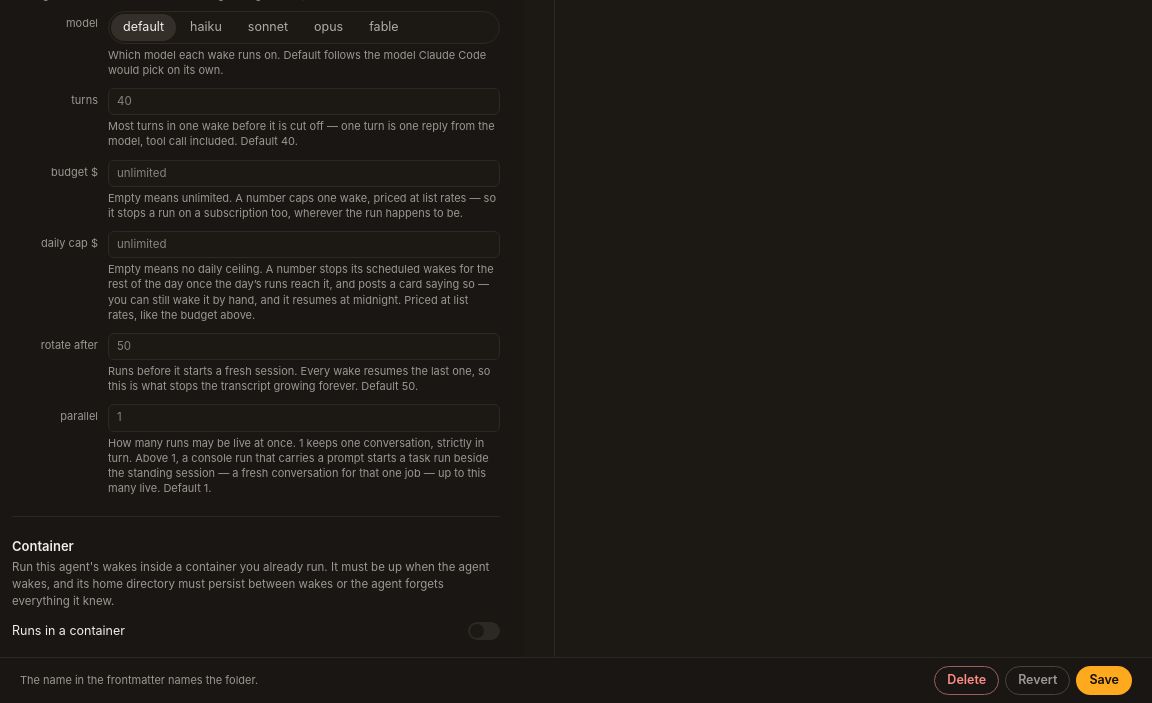
Test case: AgentDefinition › deleting › keeps the page open and says why when main refuses
This screenshot has width=1152, height=703.
(page scrolled)
What coordinates should you click on to do the following:
click the button "Delete"
I would click on:
 (967, 680)
Its box is [934,666,999,695].
(page scrolled)
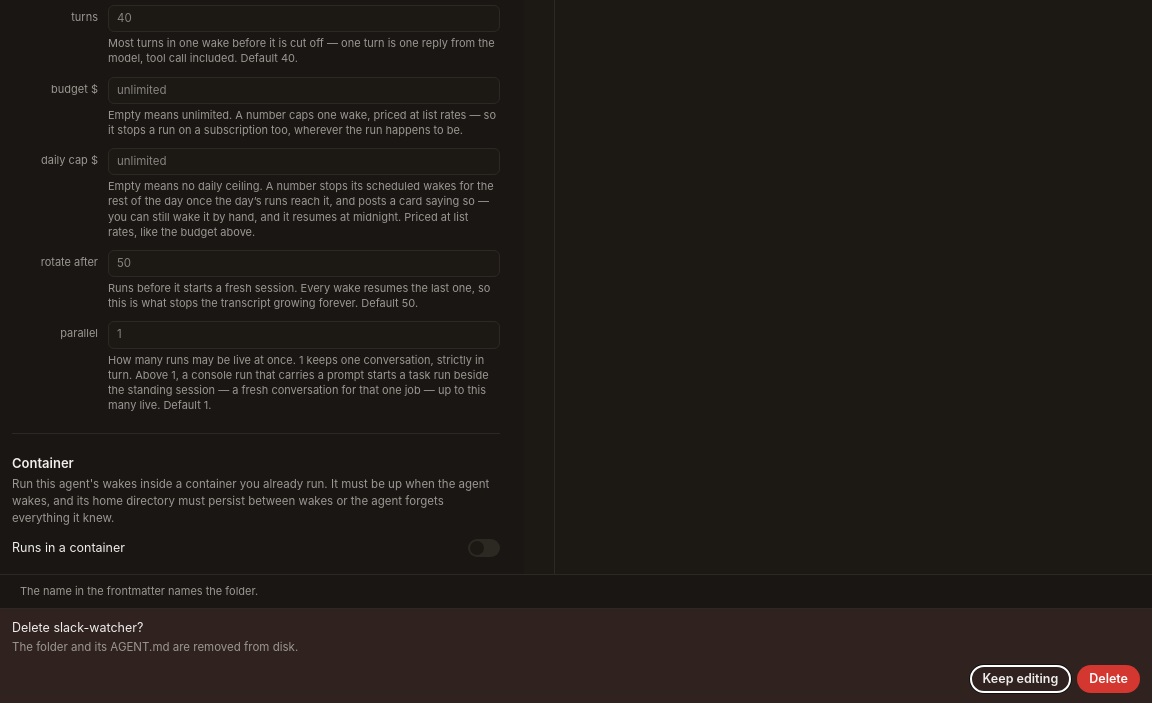
What coordinates should you click on to do the following:
click the button "Delete"
I would click on:
 (1109, 679)
Its box is [1077,665,1140,693].
(page scrolled)
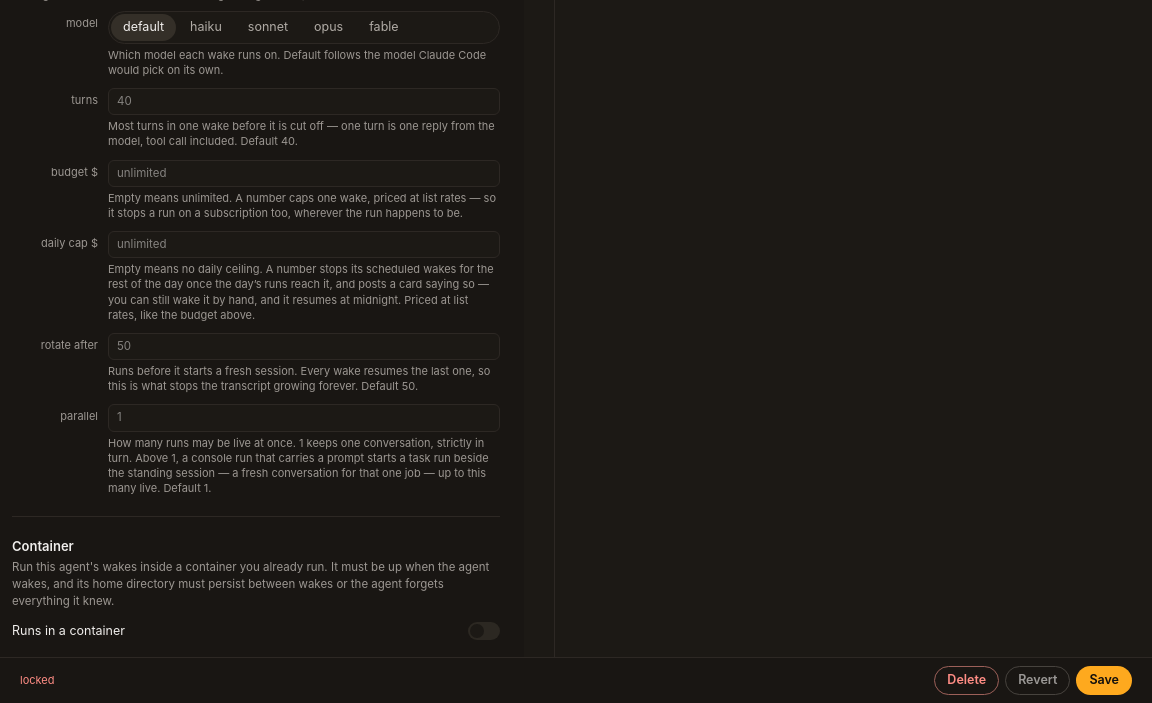
Result: the text "locked" is shown at [20,672,54,689]
